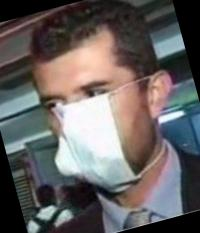mask_weared_incorrect: (35, 62, 170, 203)
